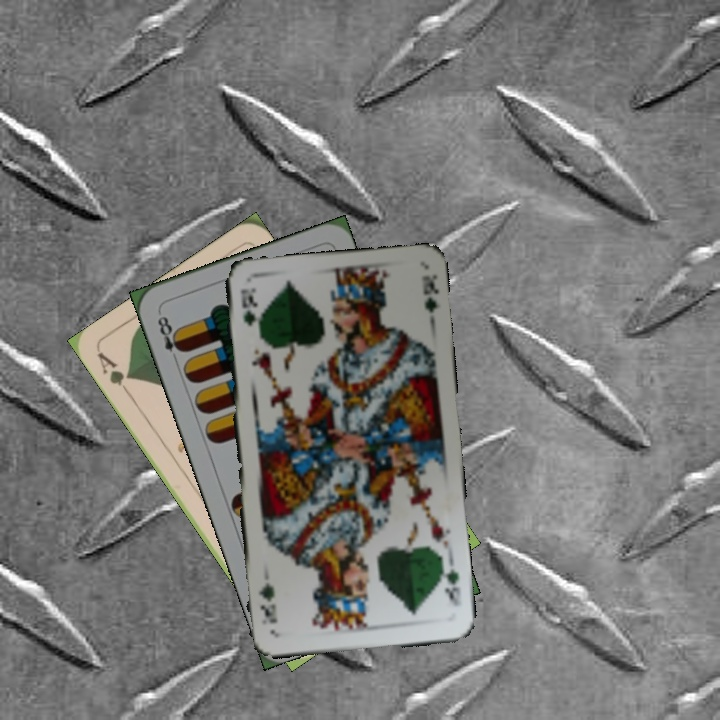E8: (153, 308, 187, 365)
GA: (93, 347, 135, 400)
GK: (436, 557, 464, 609), (237, 284, 256, 328)
